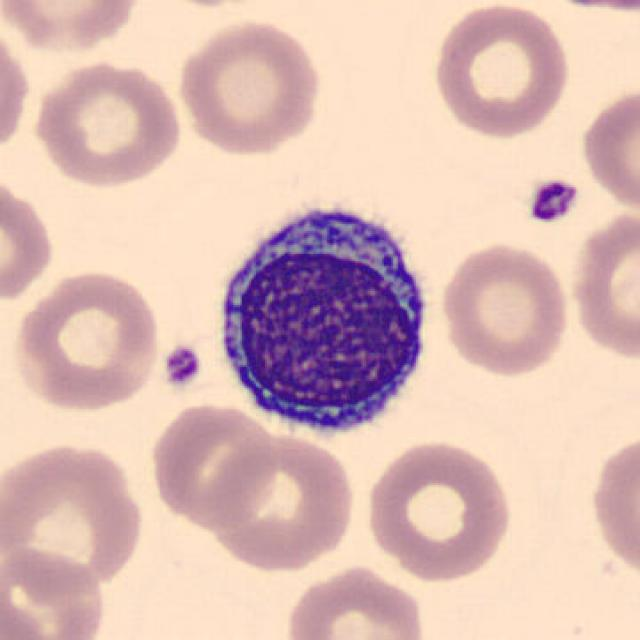Lymphocyte: (203, 188, 441, 448)
Platelets: (523, 174, 583, 226), (158, 341, 206, 392)
RBC: (201, 428, 359, 575), (9, 266, 163, 414), (361, 436, 515, 584), (2, 438, 148, 592), (172, 16, 326, 159), (427, 0, 574, 141), (28, 56, 185, 188), (436, 238, 572, 379), (146, 398, 279, 530), (567, 204, 640, 365), (283, 562, 430, 640), (0, 543, 110, 640), (576, 81, 638, 217), (586, 426, 640, 581), (0, 169, 59, 307), (0, 0, 148, 55), (0, 12, 34, 160), (531, 0, 640, 16)
